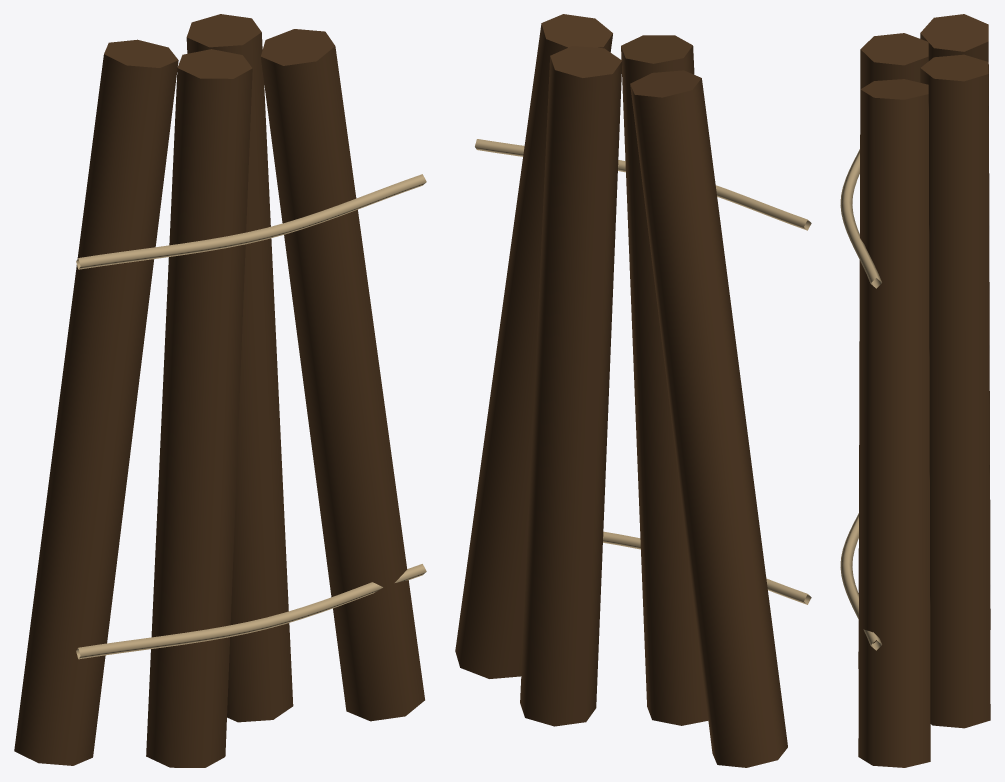
File: load_wood.glb
3 views of the same model, side by side, from view 1: azimuth 30°, elevation 25°; view 2: azimuth 150°, elevation 25°; view 3: azimuth 270°, elevation 25° (orthographic). The views are drawn at different scales.
Visible parts, largest first — view 1: part_0, part_1; view 2: part_0, part_1; view 3: part_0, part_1.
Boxes of the visible parts, bbox=[...] form: part_0: bbox=[14, 14, 424, 767]; part_1: bbox=[76, 174, 426, 659]; part_0: bbox=[455, 14, 787, 767]; part_1: bbox=[475, 139, 811, 604]; part_0: bbox=[858, 14, 990, 767]; part_1: bbox=[840, 149, 881, 650].
Size of the model in its own units: 0.1978 by 0.3517 by 0.0751.
